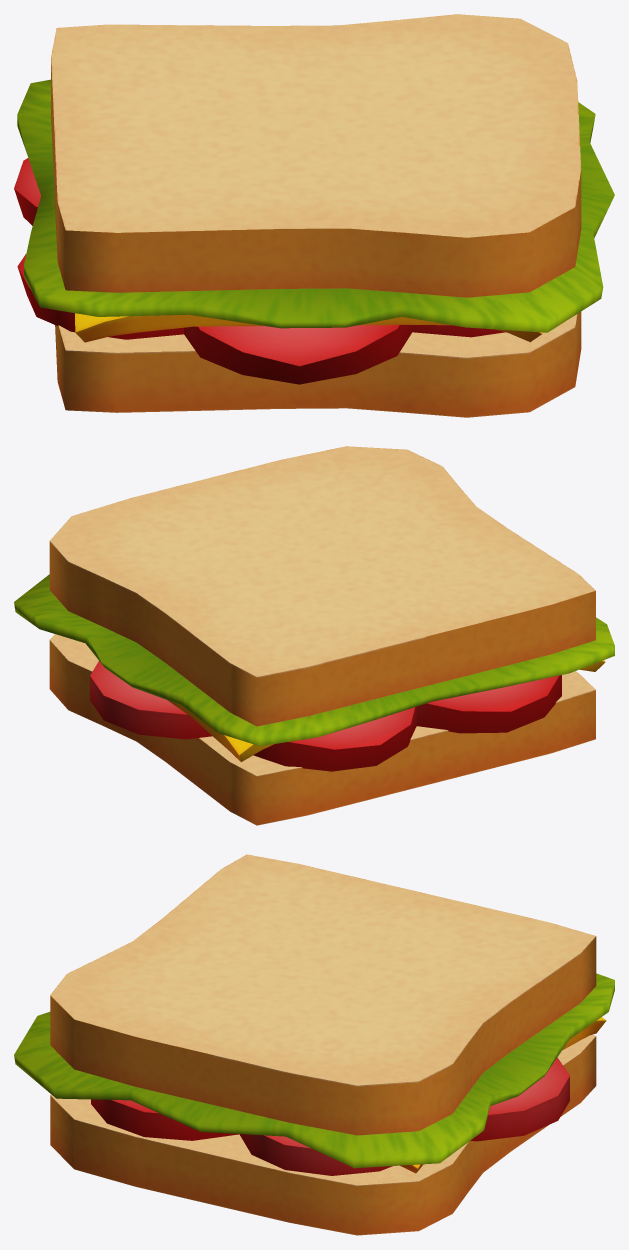
Rendered from Sandwich_Full.fbx.
The picture shows the model from 3 angles, top to bottom: view 1: azimuth 30°, elevation 25°; view 2: azimuth 150°, elevation 25°; view 3: azimuth 270°, elevation 25°; orthographic projection. The views are drawn at different scales.
Parts seen in each view (by area): view 1: Sandwich_1; view 2: Sandwich_1; view 3: Sandwich_1.
Boxes of the visible parts, left/top/right/bottom form: Sandwich_1: left=14, top=14, right=614, bottom=417; Sandwich_1: left=14, top=446, right=614, bottom=825; Sandwich_1: left=14, top=854, right=614, bottom=1235.
Bounding box in the file's own units: 61.87 × 17.19 × 62.48.
